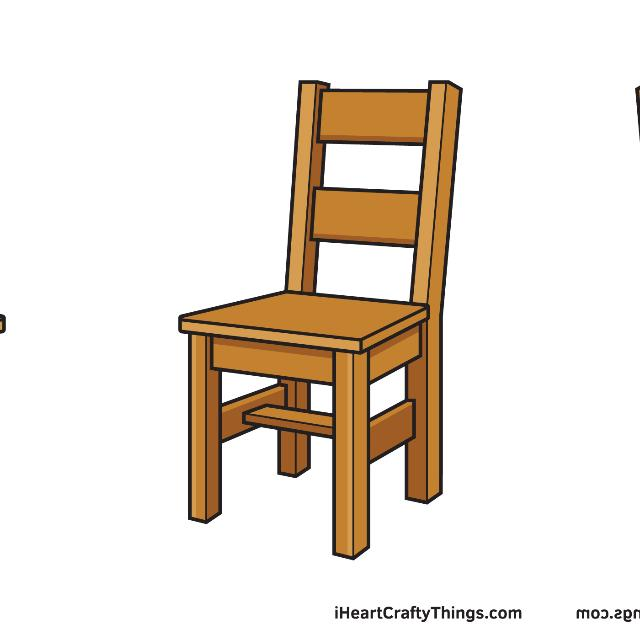obstacle: (148, 31, 498, 582), (599, 30, 640, 581), (0, 30, 33, 581)
